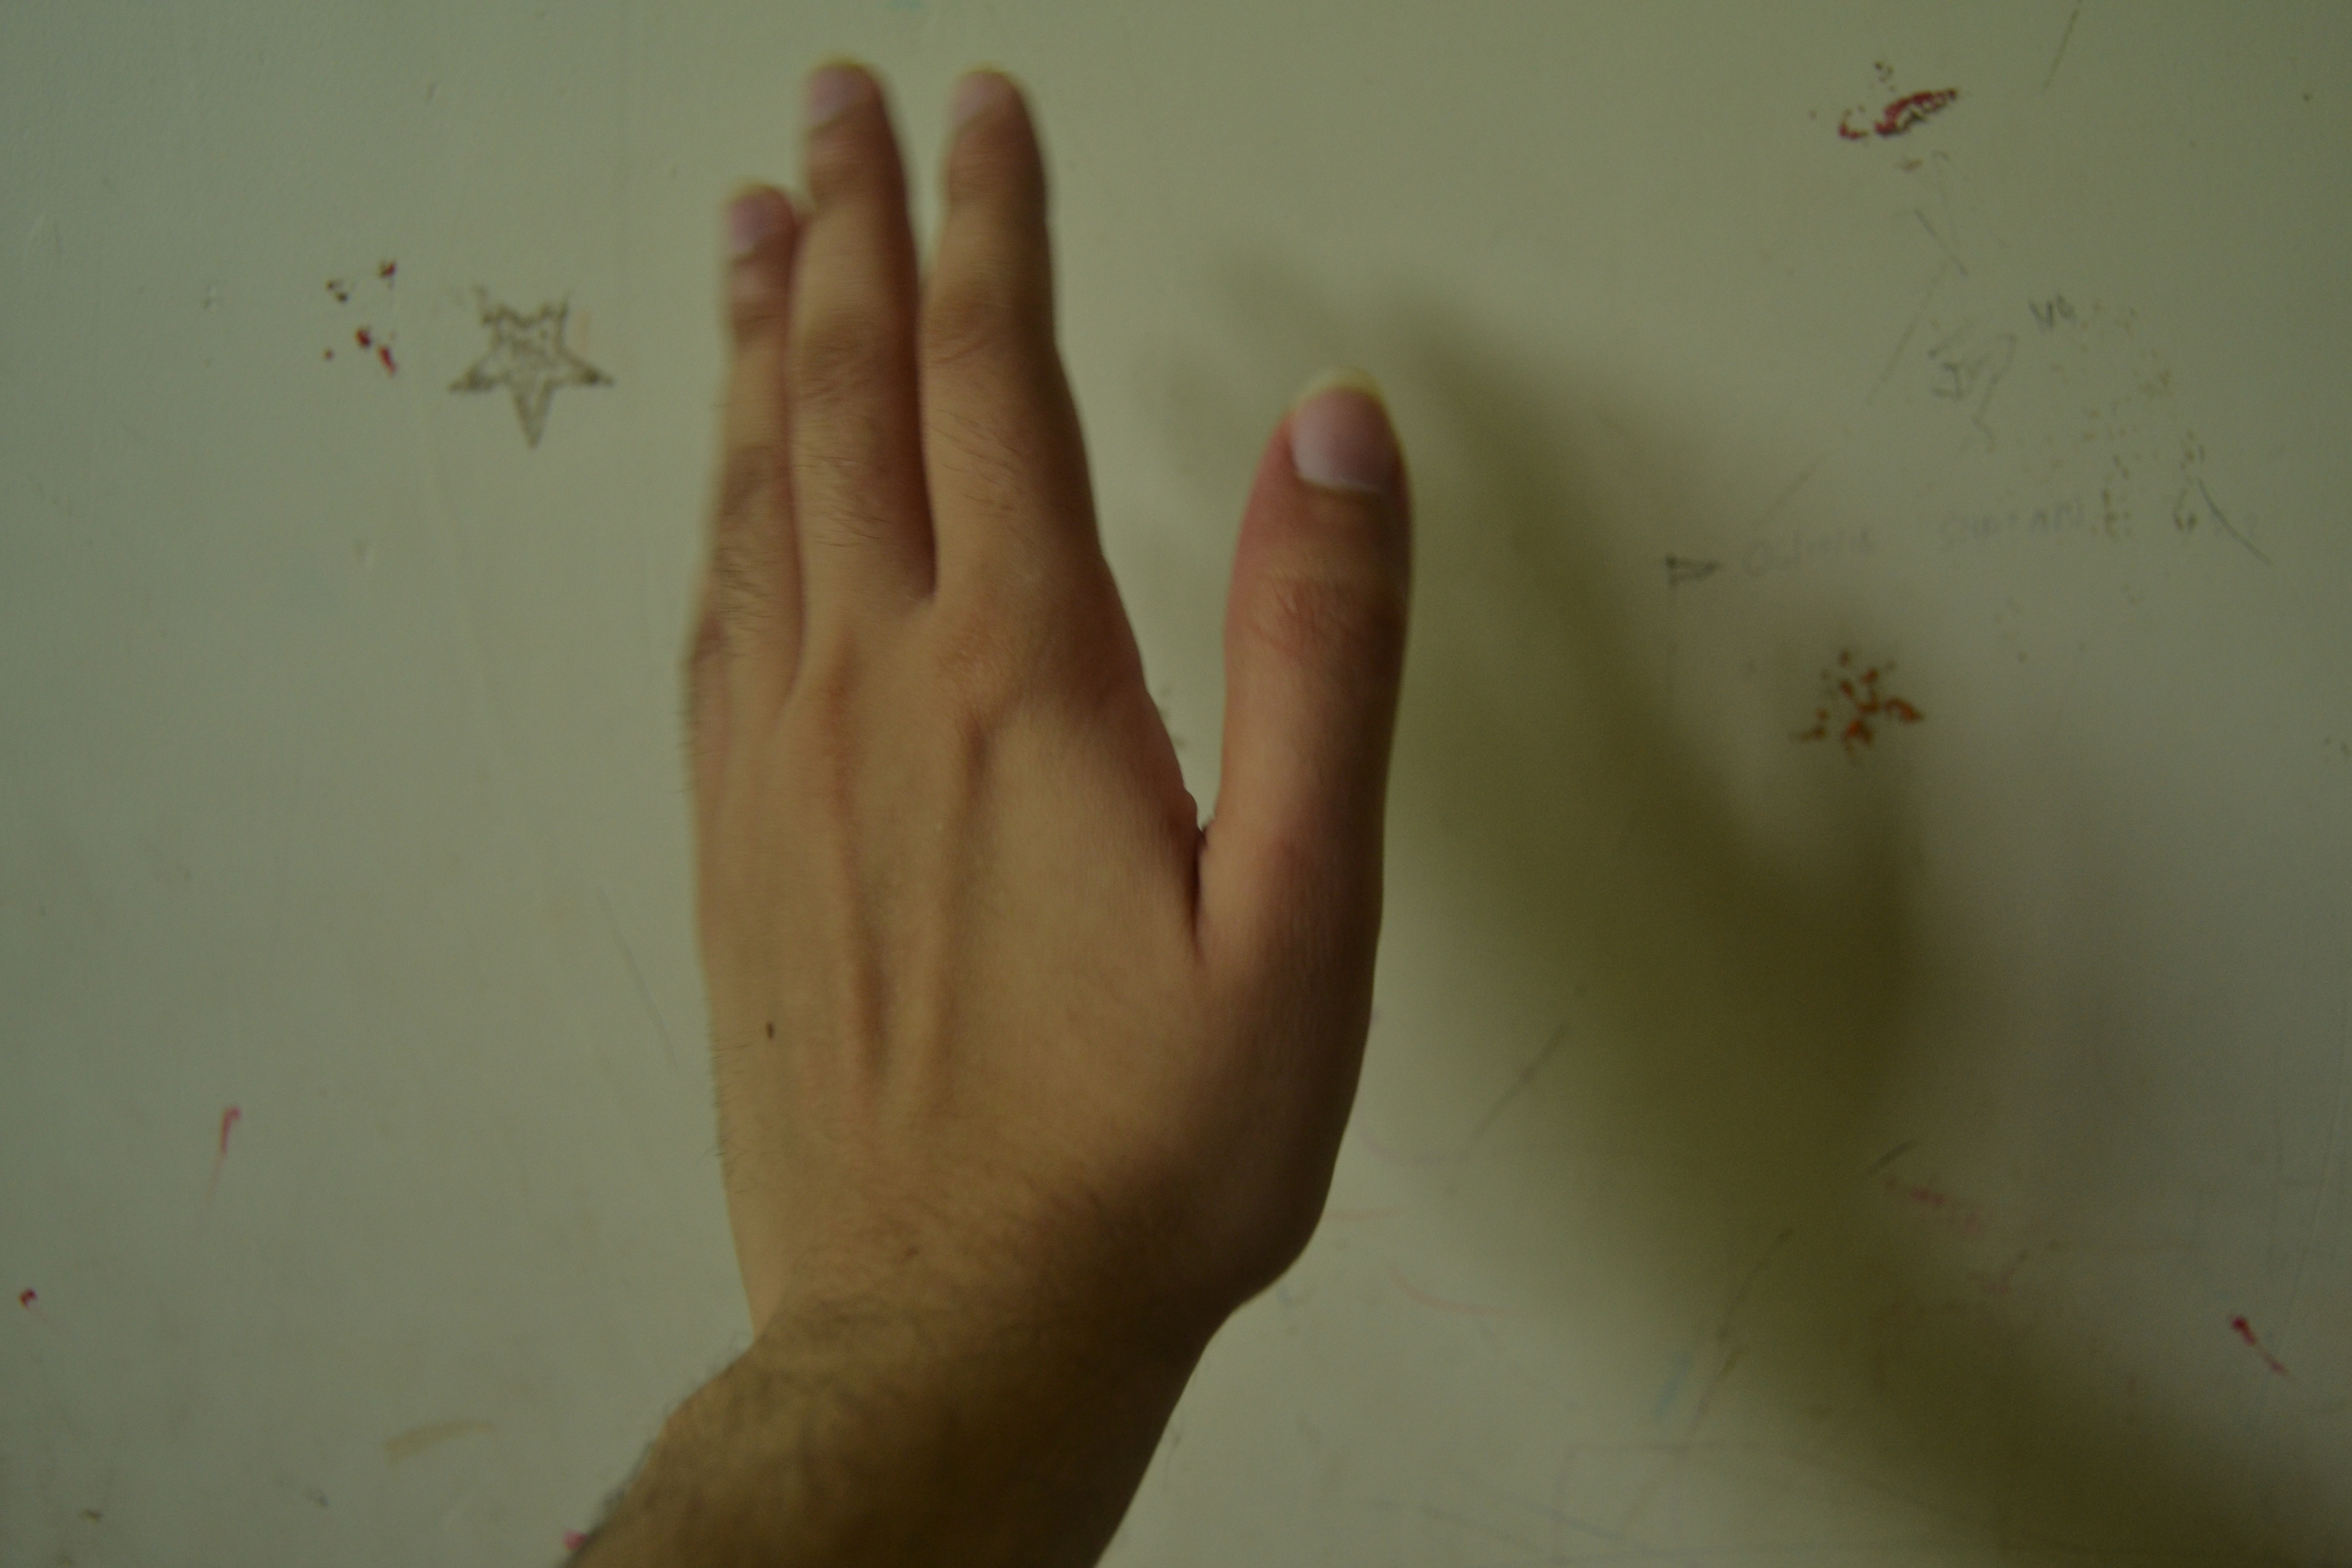move: (675, 30, 1442, 1459)
